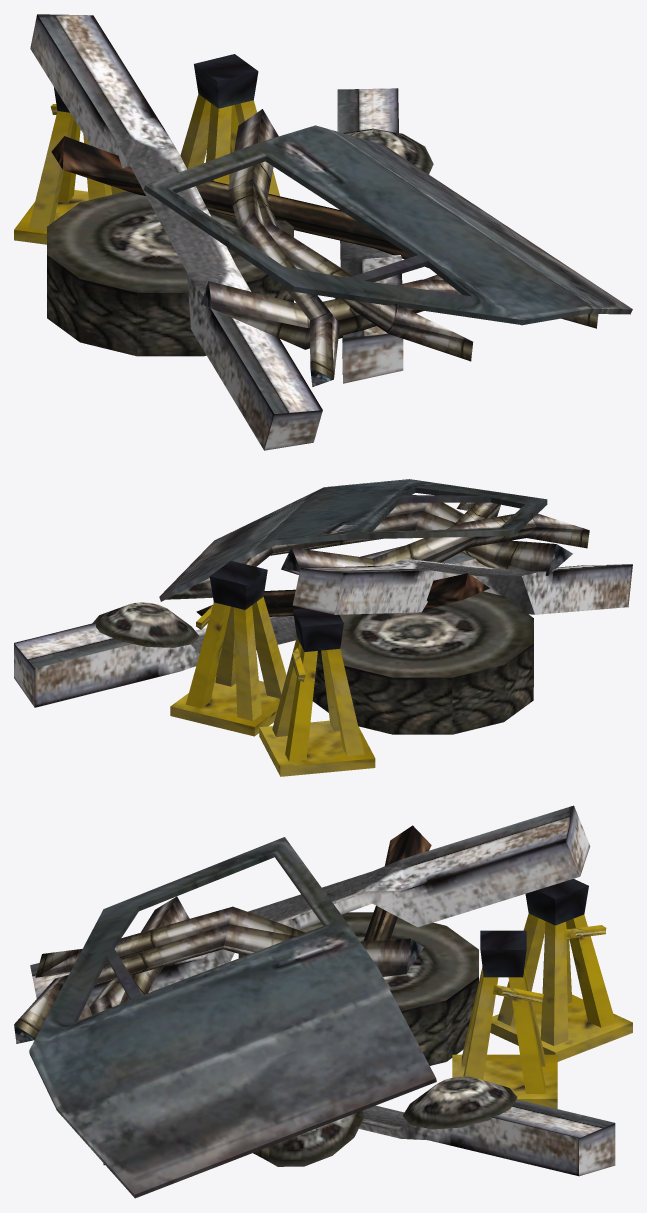
File: gtools01.glb
3 views of the same model, one above another, from view 1: azimuth 30°, elevation 25°; view 2: azimuth 150°, elevation 25°; view 3: azimuth 270°, elevation 25° (orthographic). The views are drawn at different scales.
Visible parts, largest first — view 1: _gtools01; view 2: _gtools01; view 3: _gtools01.
Part boxes in pixels (<box>): _gtools01: <box>14,14,632,450</box>; _gtools01: <box>14,479,632,776</box>; _gtools01: <box>14,805,632,1198</box>.
Size of the model in its own units: 2.31 by 1.13 by 2.81.
1 material, 1 textured.
